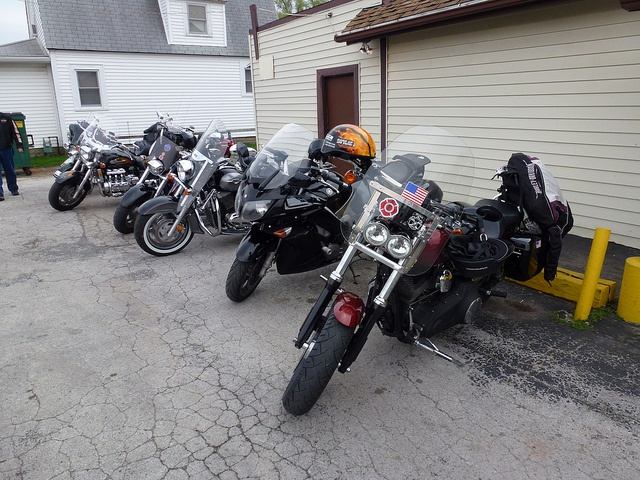non-vehicle: (281, 124, 573, 416), (225, 123, 375, 302), (133, 119, 256, 256), (48, 116, 151, 211), (113, 112, 192, 234)
